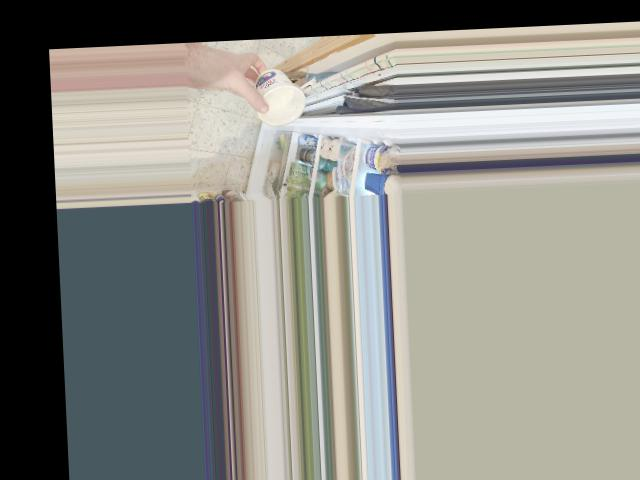cotage: (249, 64, 307, 127)
